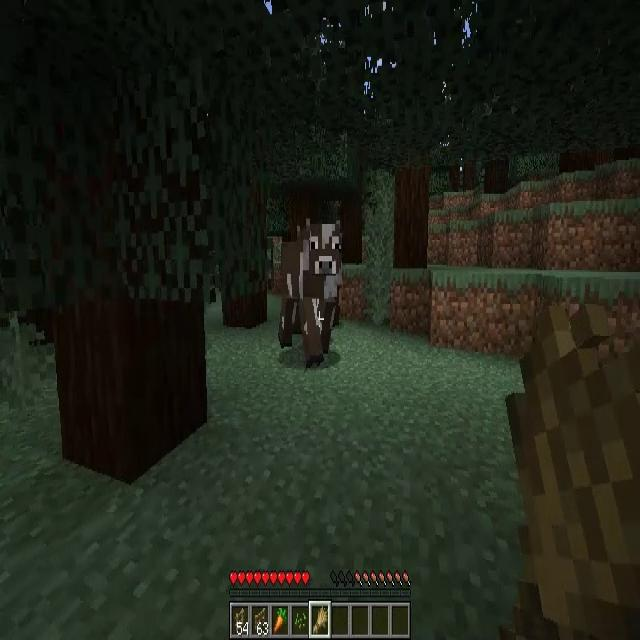cow: (279, 221, 341, 364)
